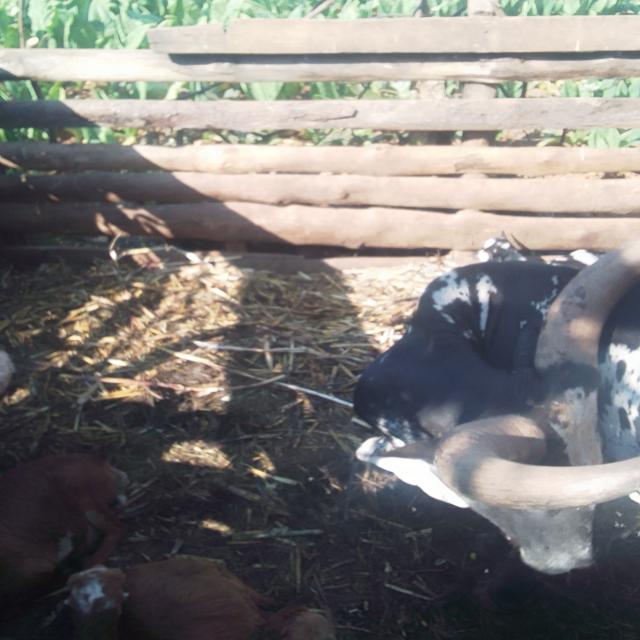pig: (304, 185, 640, 602)
